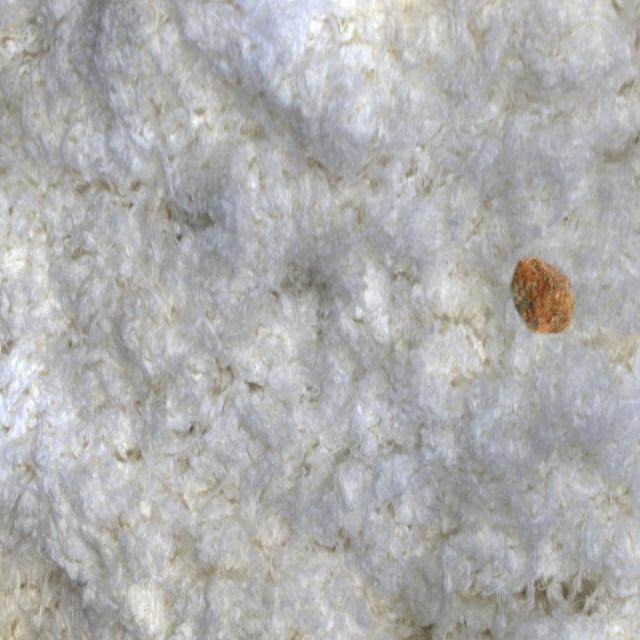dust: (483, 222, 613, 374)
